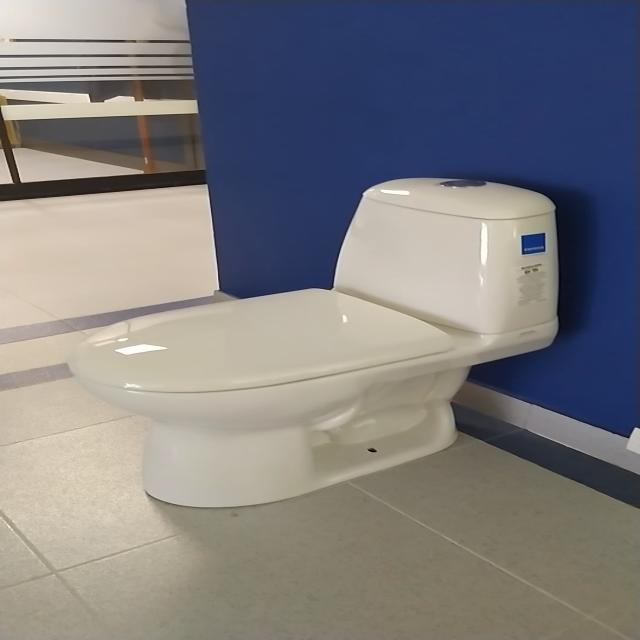toilet: (62, 168, 572, 514)
